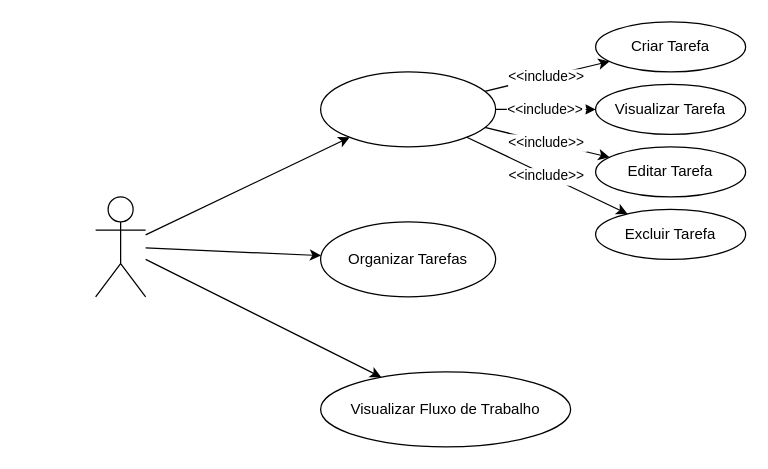
This 768x469 diagram has some shape labels left out. The shapes that lost their labels are listed below. From the top down, each one's centre as x and y in pixels, then its label:
point (407, 109): Gerenciar Tarefas
point (120, 246): Usuário (Equipe de Logística)
